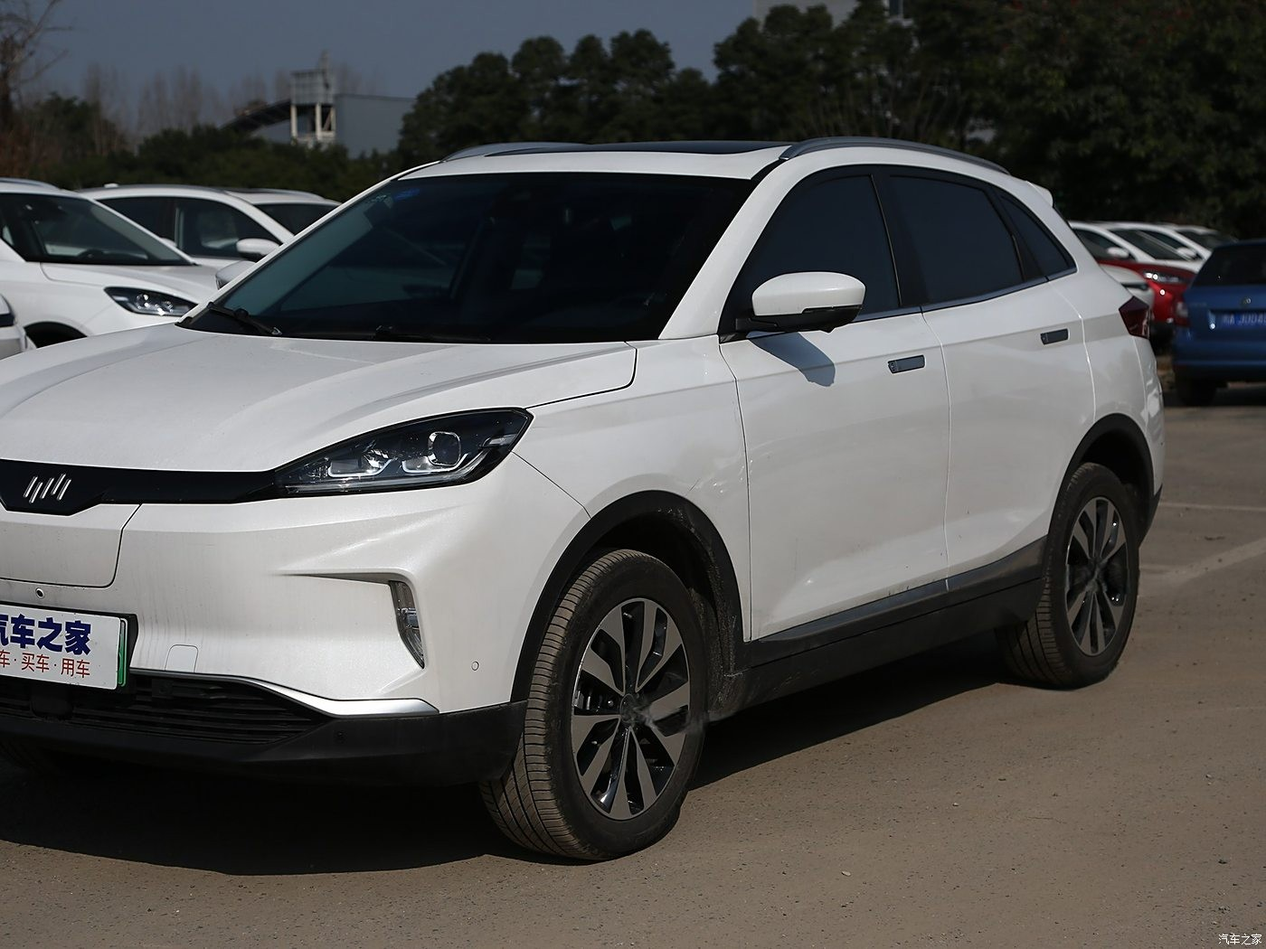WELTMEISTER: (24, 473, 71, 503)
